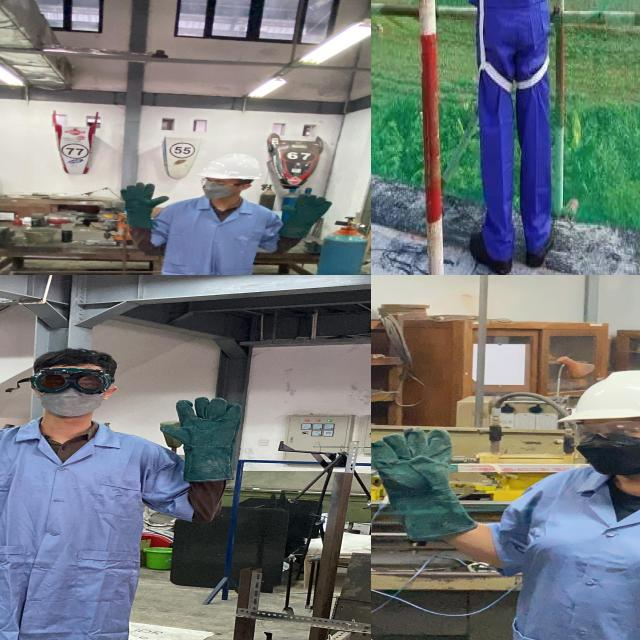face_mask: (25, 367, 115, 420), (564, 417, 640, 475), (200, 175, 244, 202)
glasses: (20, 362, 120, 397), (561, 419, 640, 443), (196, 176, 249, 187)
hand_glove: (371, 422, 467, 502), (156, 395, 252, 455), (274, 193, 334, 227), (113, 181, 174, 214)
head_helmet: (558, 368, 640, 424), (197, 150, 269, 182)
head_nohelmet: (31, 343, 118, 372)
person: (0, 346, 260, 640), (371, 363, 640, 640), (93, 155, 343, 275)
